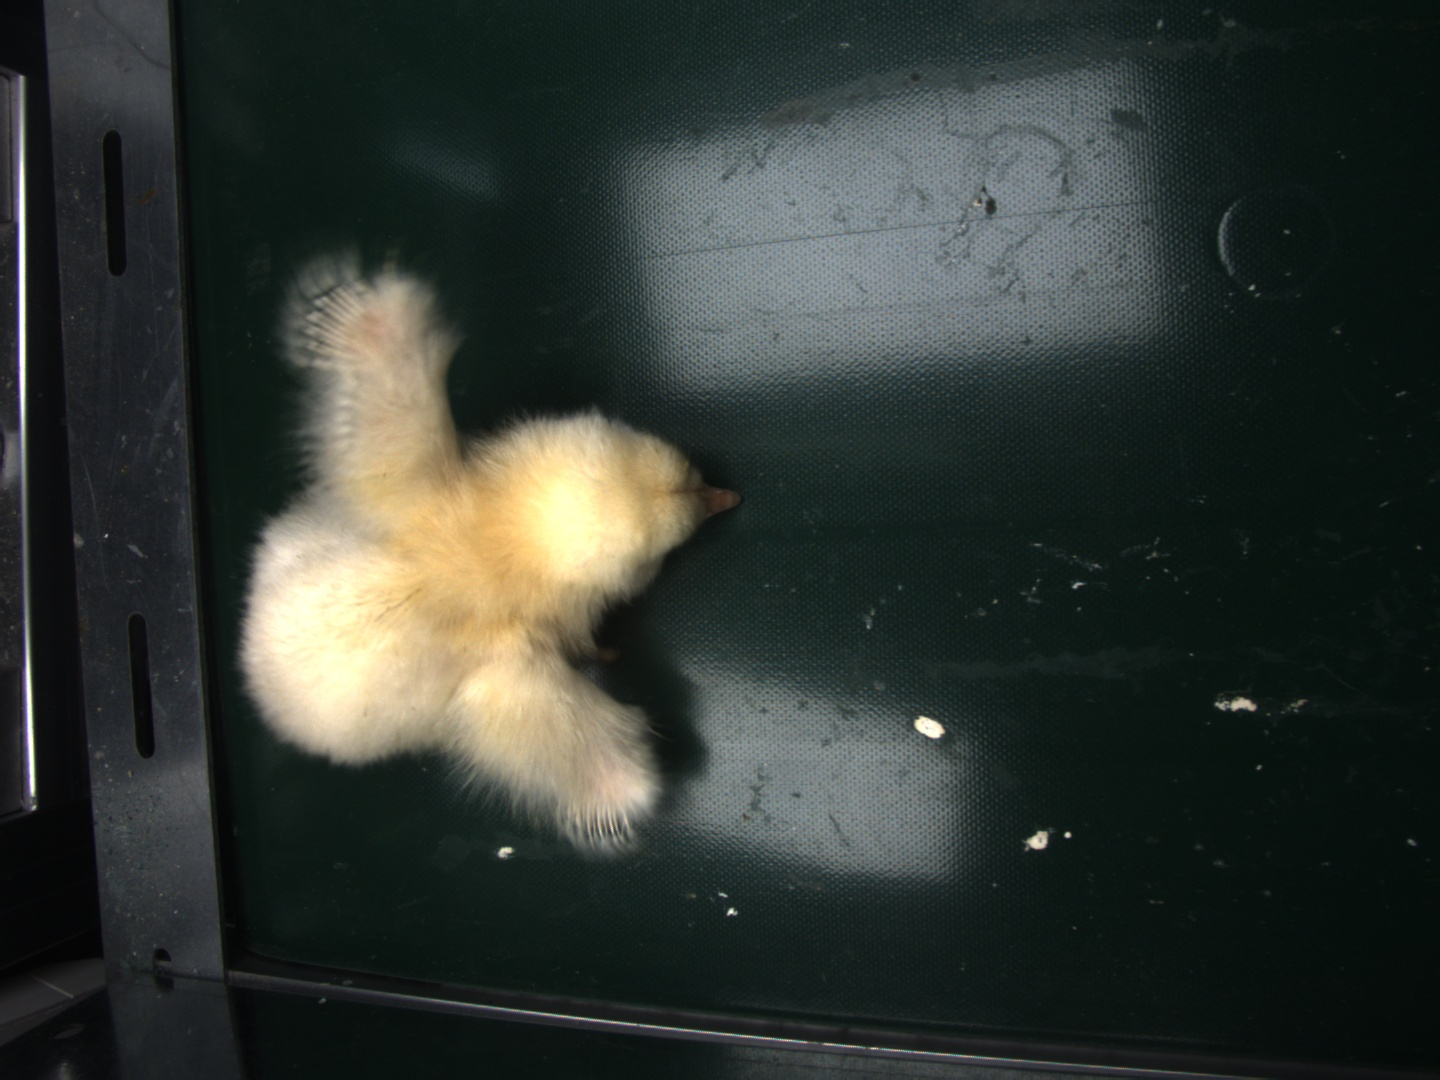male: (303, 284, 374, 363), (564, 801, 632, 846)
